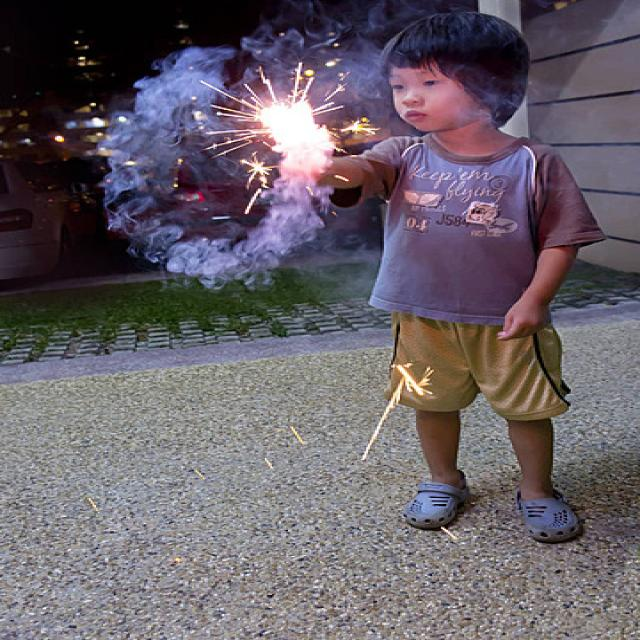fire: (259, 99, 330, 153)
